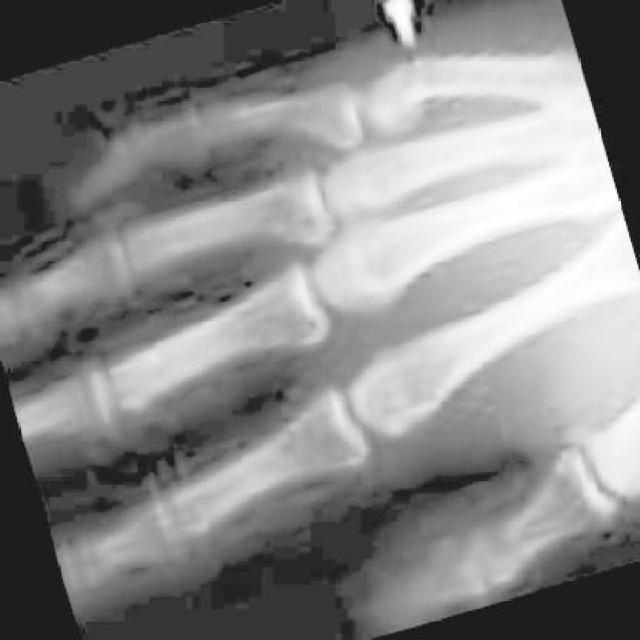Fracture: (374, 51, 448, 122)
